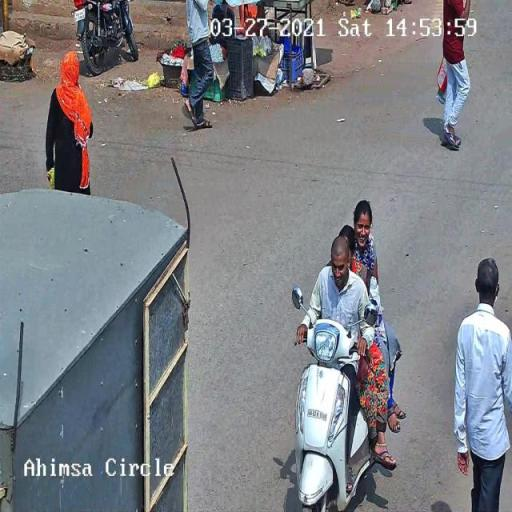tripple riding: (289, 196, 394, 363)
